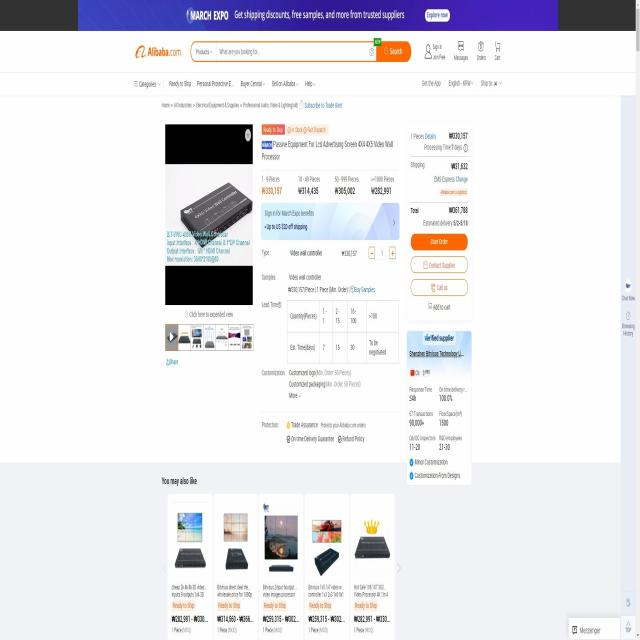button: (410, 276, 469, 299), (411, 253, 468, 276), (410, 232, 469, 252), (376, 40, 413, 64), (424, 8, 450, 23)
input: (219, 42, 375, 62)
select: (191, 40, 218, 62), (446, 75, 476, 91), (239, 75, 267, 92), (133, 76, 163, 91), (479, 76, 503, 91)
